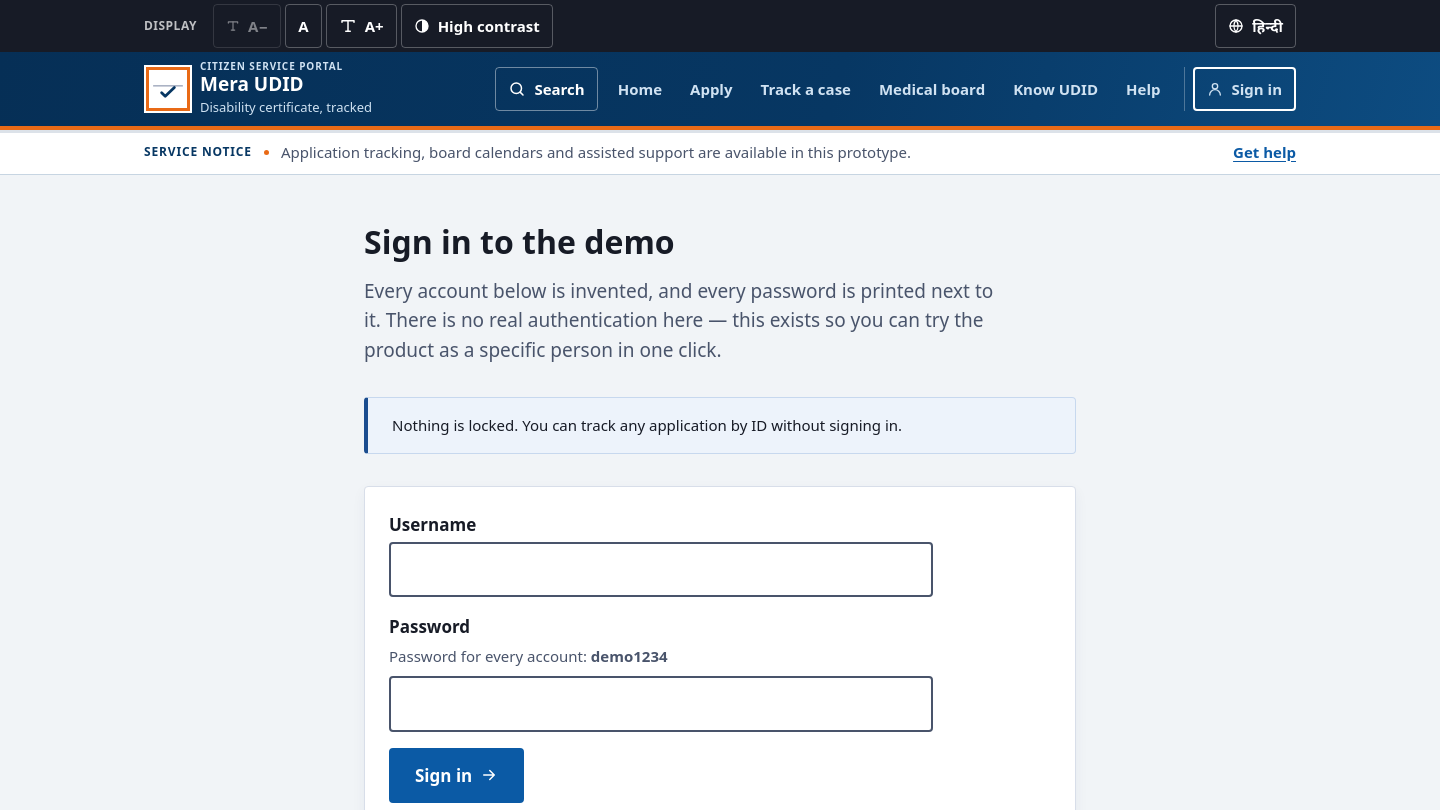
Test case: demo sign-in › accepts the credentials printed on the page
This screenshot has width=1440, height=810.
Check: the heading "Sign in to the demo" is shown, box [364, 220, 675, 263]
Type "ravi" into the field labelled "Username" at {"x": 661, "y": 570}, box [389, 542, 933, 597]
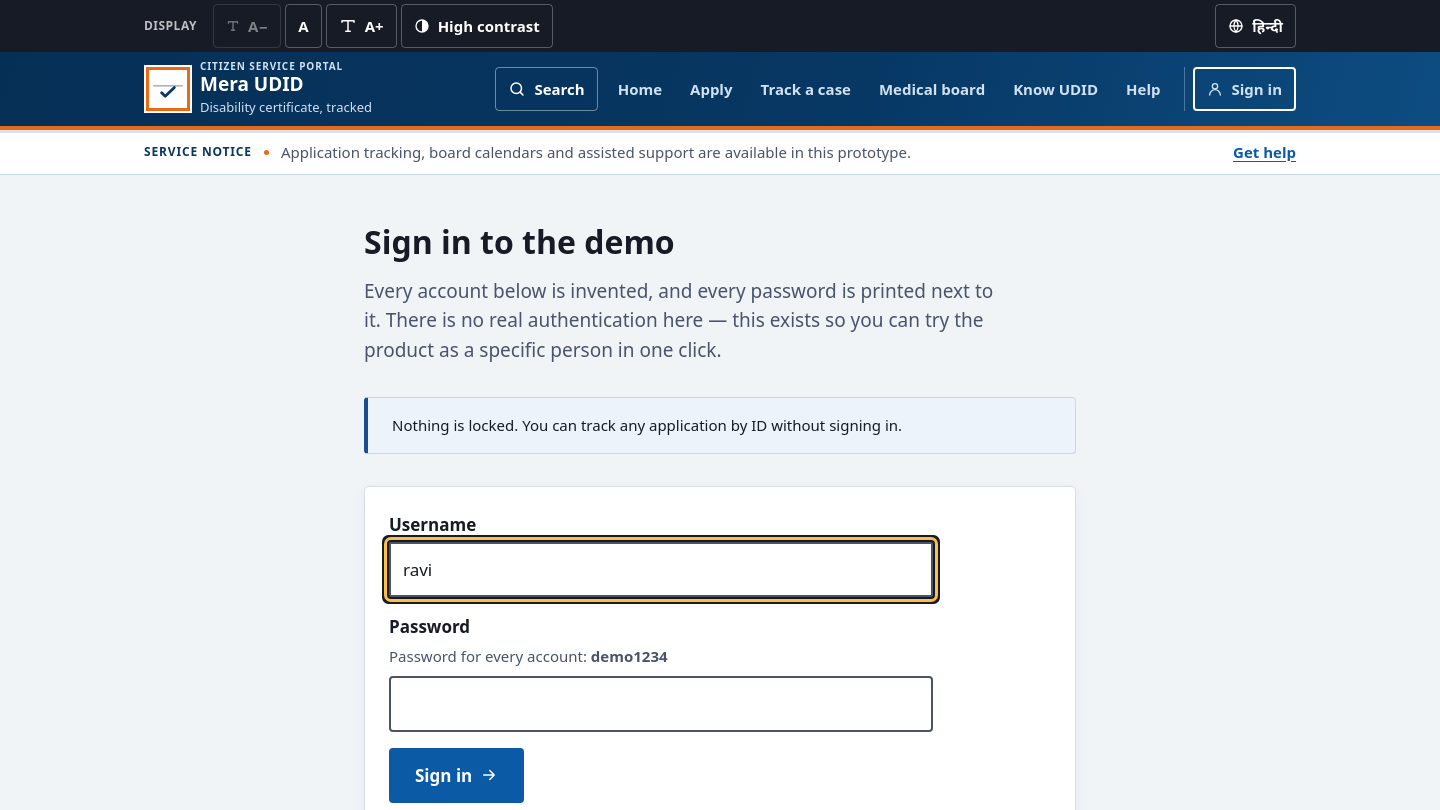
Type "demo1234" into the field labelled "Password" at {"x": 661, "y": 704}, box [389, 676, 933, 732]
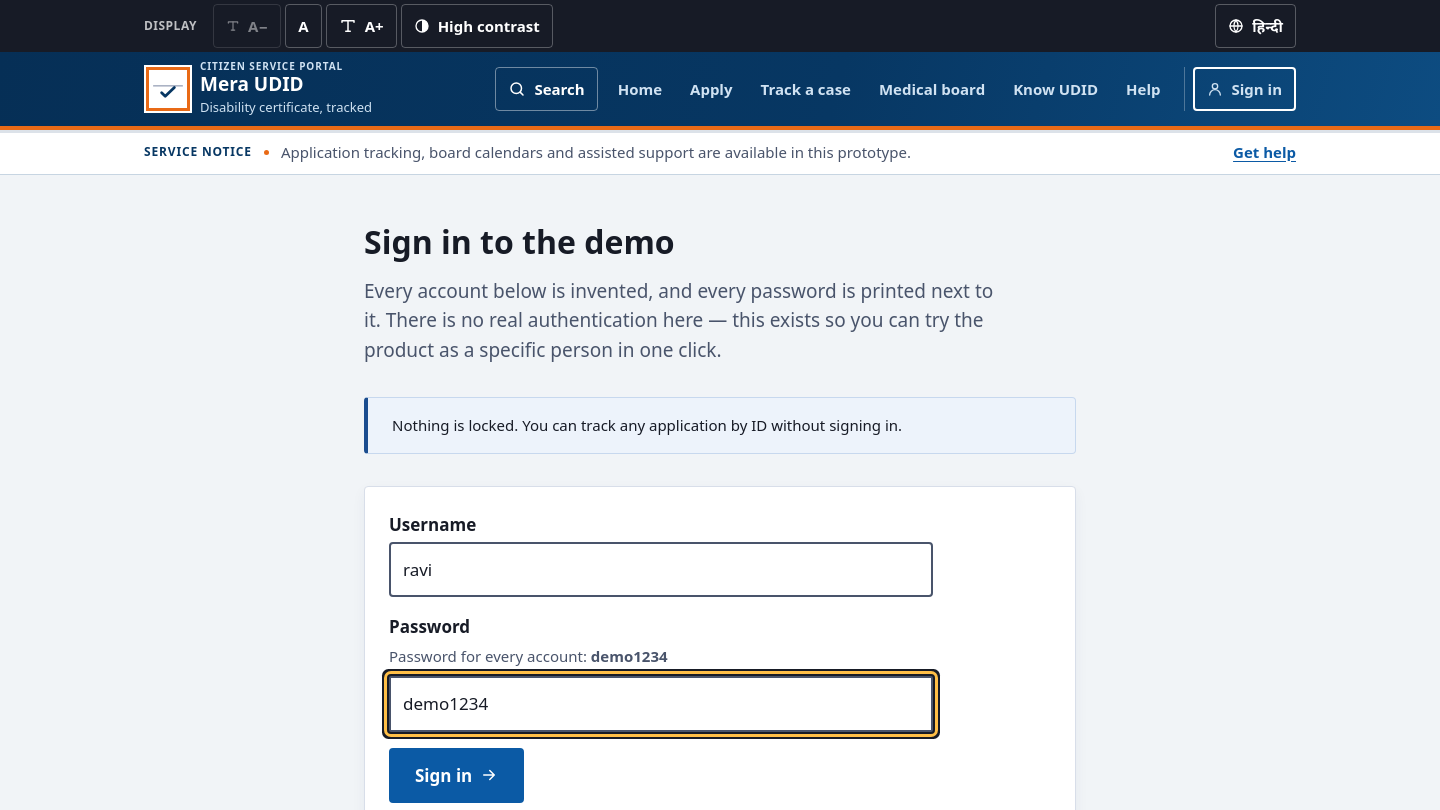
Click the button "Sign in" at {"x": 457, "y": 775}, box [389, 748, 524, 803]
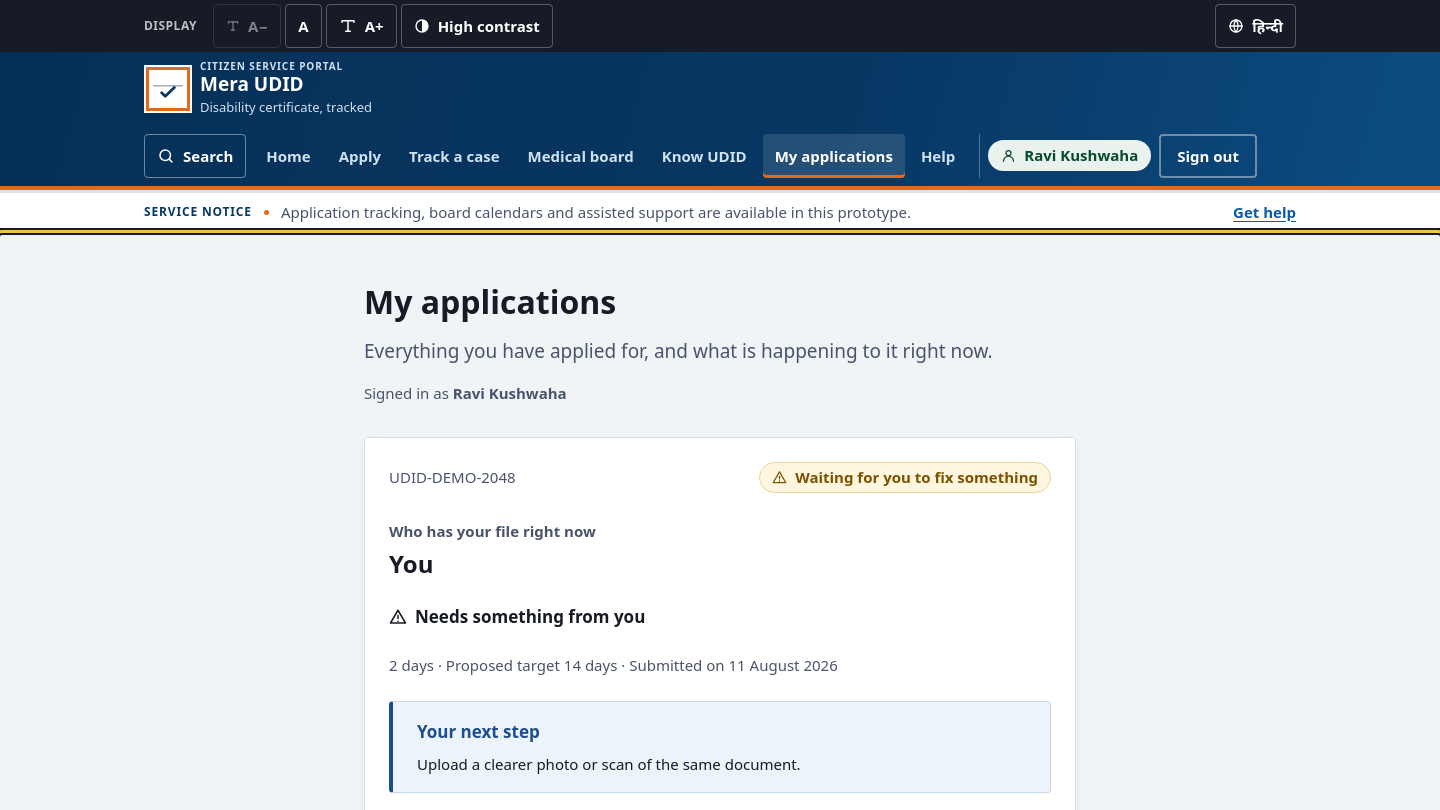
Check: the heading "My applications" is shown, box [364, 280, 616, 323]
Check: the text "UDID-DEMO-2048" is shown, box [389, 467, 516, 487]
Check: the text "Needs something from you" is shown, box [415, 605, 645, 628]
